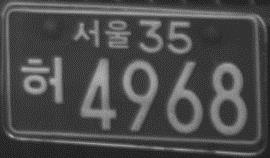3: (136, 17, 164, 55)
4: (77, 56, 117, 129)
5: (167, 19, 193, 55)
6: (165, 59, 205, 133)
8: (208, 60, 248, 135)
9: (121, 57, 159, 132)
서울_O: (73, 18, 132, 51)
허: (21, 55, 65, 106)
